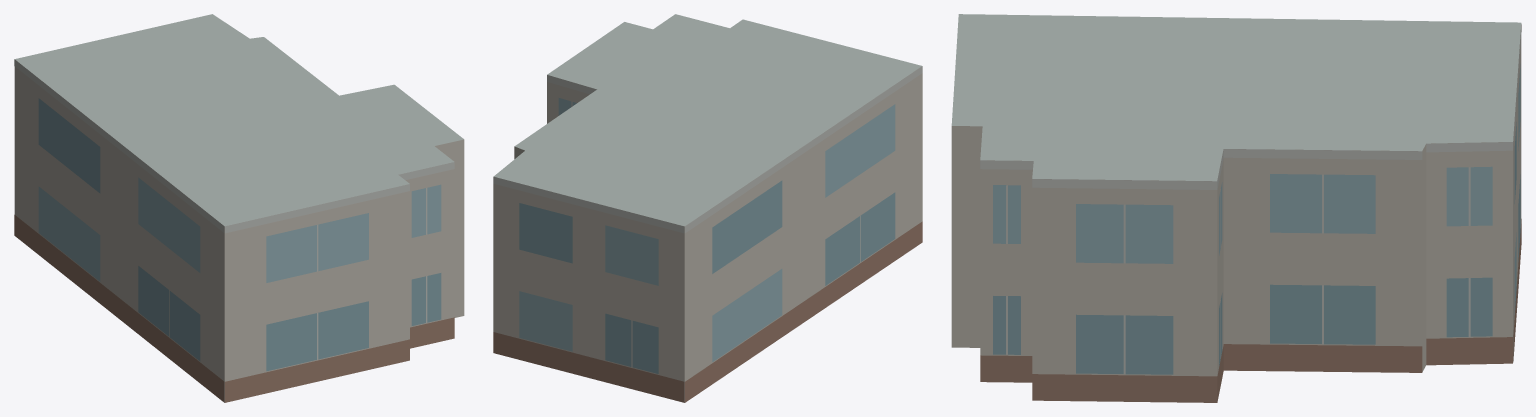
File: survey-upis-32660173.glb
3 views of the same model, side by side, from view 1: azimuth 30°, elevation 25°; view 2: azimuth 150°, elevation 25°; view 3: azimuth 270°, elevation 25° (orthographic). The views are drawn at different scales.
Parts seen in each view (by area): view 1: survey-upis-32660173.tmp; view 2: survey-upis-32660173.tmp; view 3: survey-upis-32660173.tmp.
Part boxes in pixels (bbox=[...]): survey-upis-32660173.tmp: bbox=[14, 14, 464, 402]; survey-upis-32660173.tmp: bbox=[493, 14, 922, 402]; survey-upis-32660173.tmp: bbox=[951, 14, 1521, 402].
Bounding box in the file's own units: 9.87 × 6.1 × 14.22.
